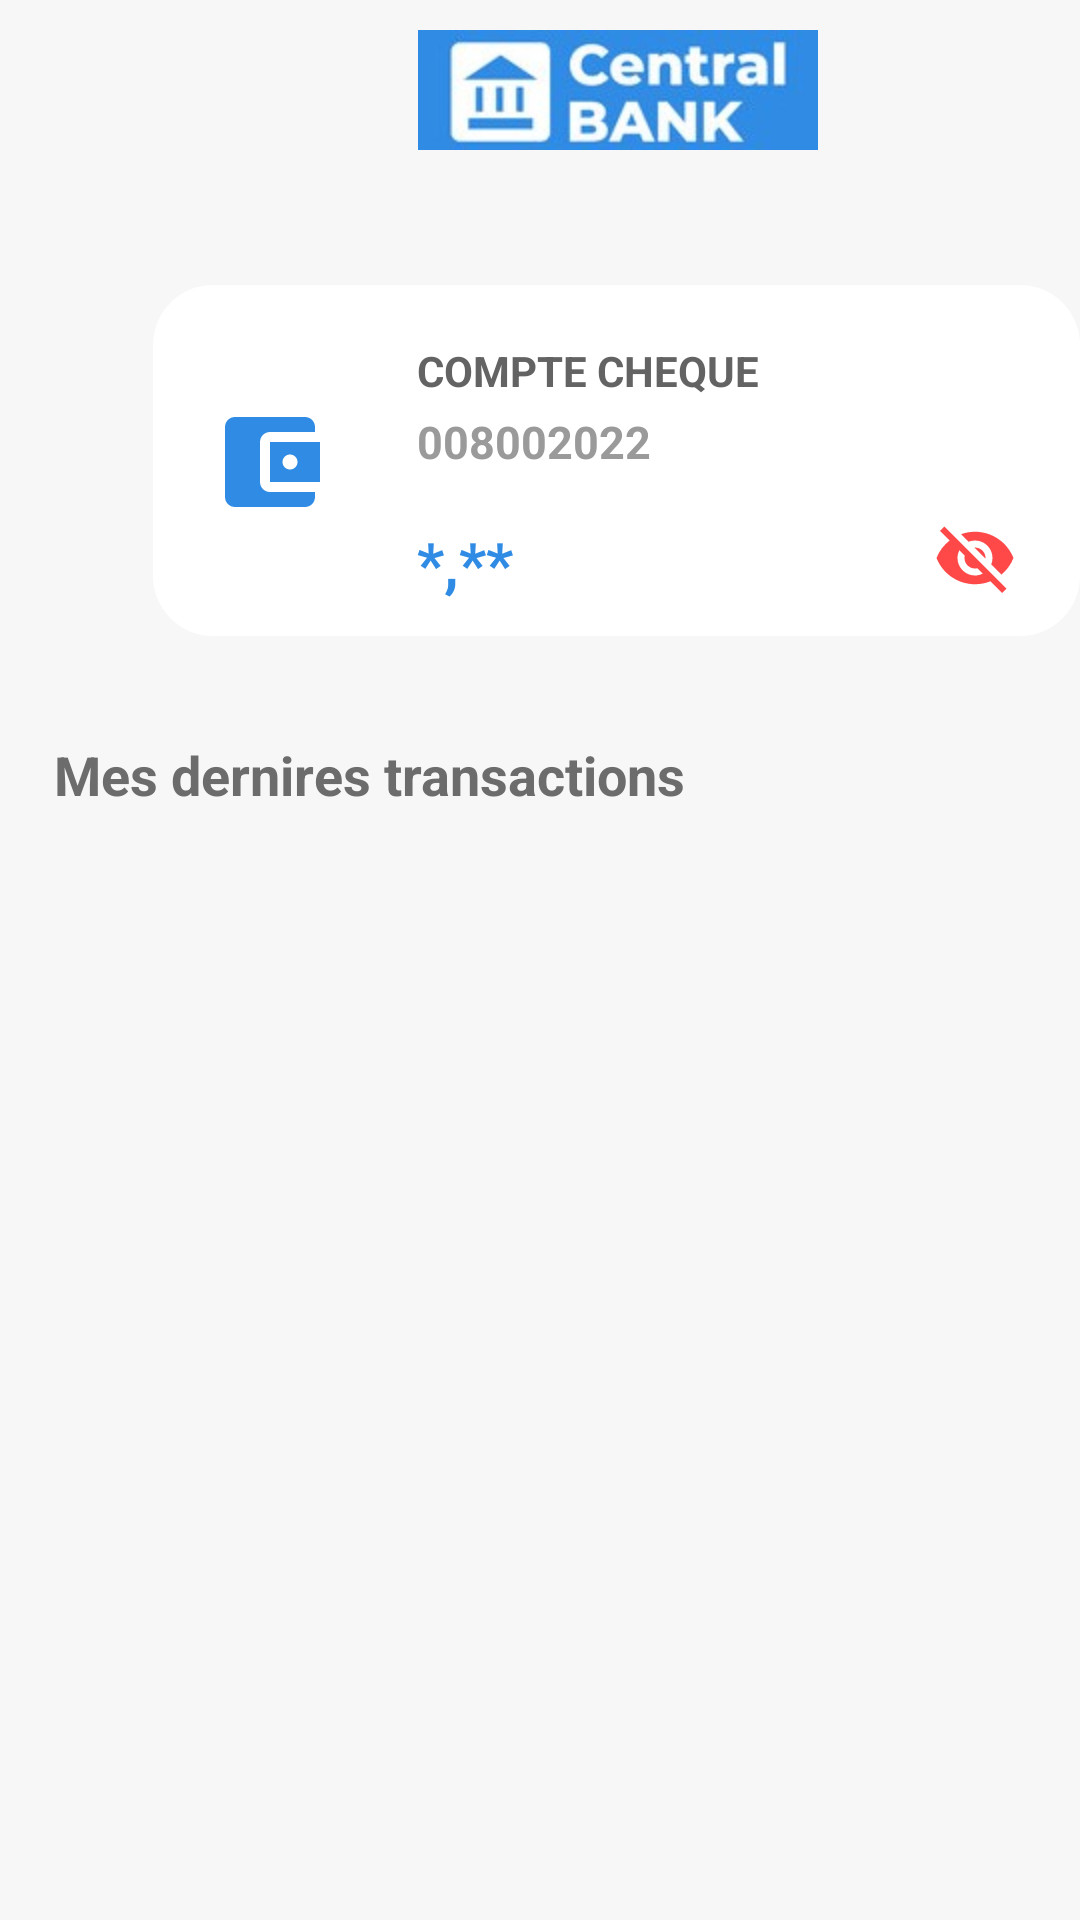

Where to tap for icons on this 1080 × 1920 app screen, as point (x, y):
account: point (272, 462)
eye off: point (975, 559)
